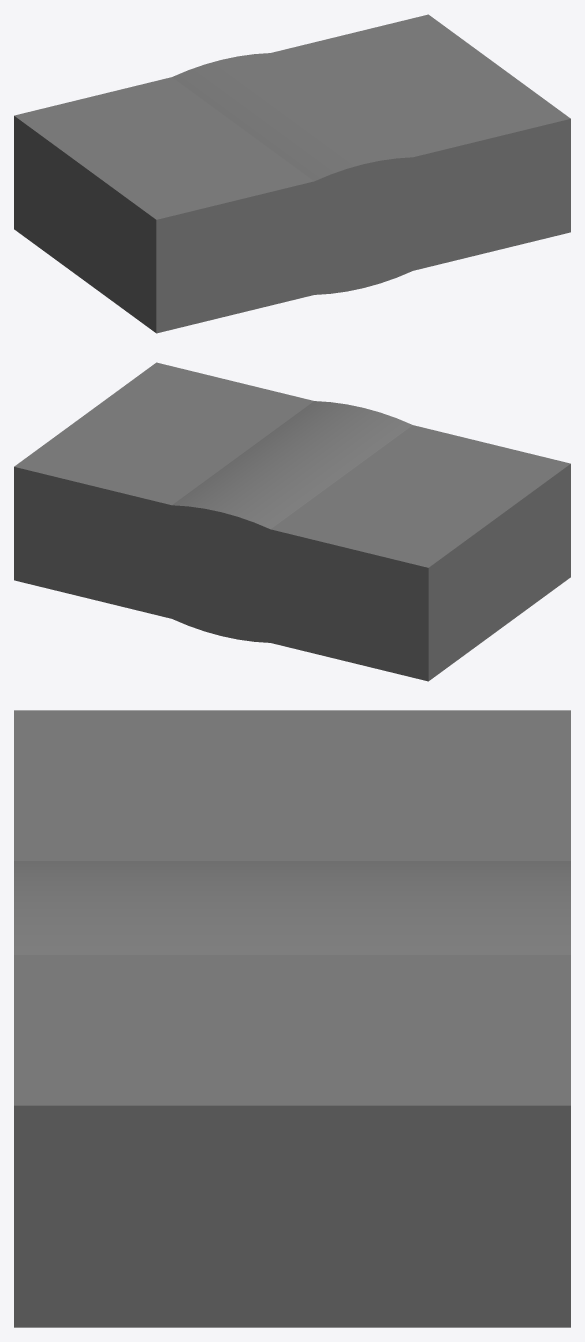
3 renders of one model, top to bottom at view 1: azimuth 30°, elevation 25°; view 2: azimuth 150°, elevation 25°; view 3: azimuth 270°, elevation 25°, orthographic. The views are drawn at different scales.
Parts seen in each view (by area): view 1: mesh_id4, mesh_id5; view 2: mesh_id4, mesh_id5; view 3: mesh_id4, mesh_id5.
Part boxes in pixels (x1,y1,x2,y2): mesh_id4: [14, 14, 570, 333]; mesh_id5: [172, 53, 412, 294]; mesh_id4: [14, 362, 570, 681]; mesh_id5: [172, 401, 412, 642]; mesh_id4: [14, 710, 570, 1327]; mesh_id5: [14, 861, 570, 954].
Size of the model in its own units: 0.512 by 0.1463 by 0.3048.
2 materials, 2 textured.
